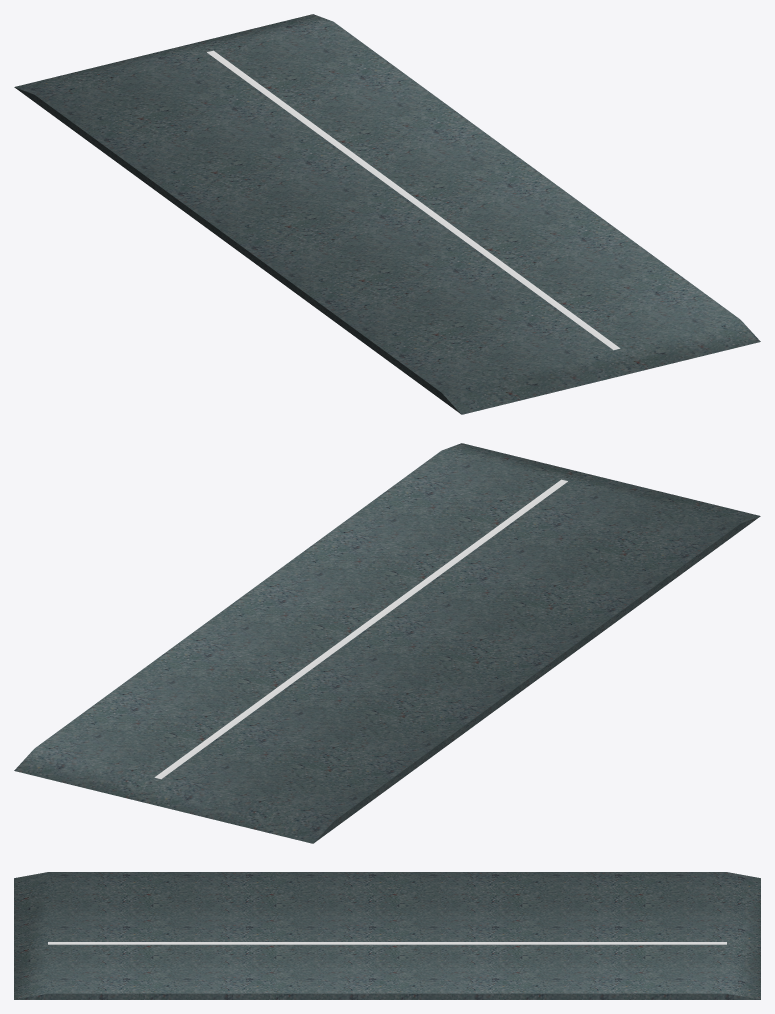
File: ROMEN_RIGHT04.glb
The picture shows the model from 3 angles, top to bottom: view 1: azimuth 30°, elevation 25°; view 2: azimuth 150°, elevation 25°; view 3: azimuth 270°, elevation 25°; orthographic projection. The views are drawn at different scales.
Visible parts, largest first — view 1: Model; view 2: Model; view 3: Model.
Boxes of the visible parts, x1,y1,x2,y2 form: Model: (14, 14, 760, 414); Model: (14, 443, 760, 843); Model: (14, 872, 760, 999).
Bounding box in the file's own units: 42.42 × 1.04 × 110.
Materials: 2 (2 with a texture image).
